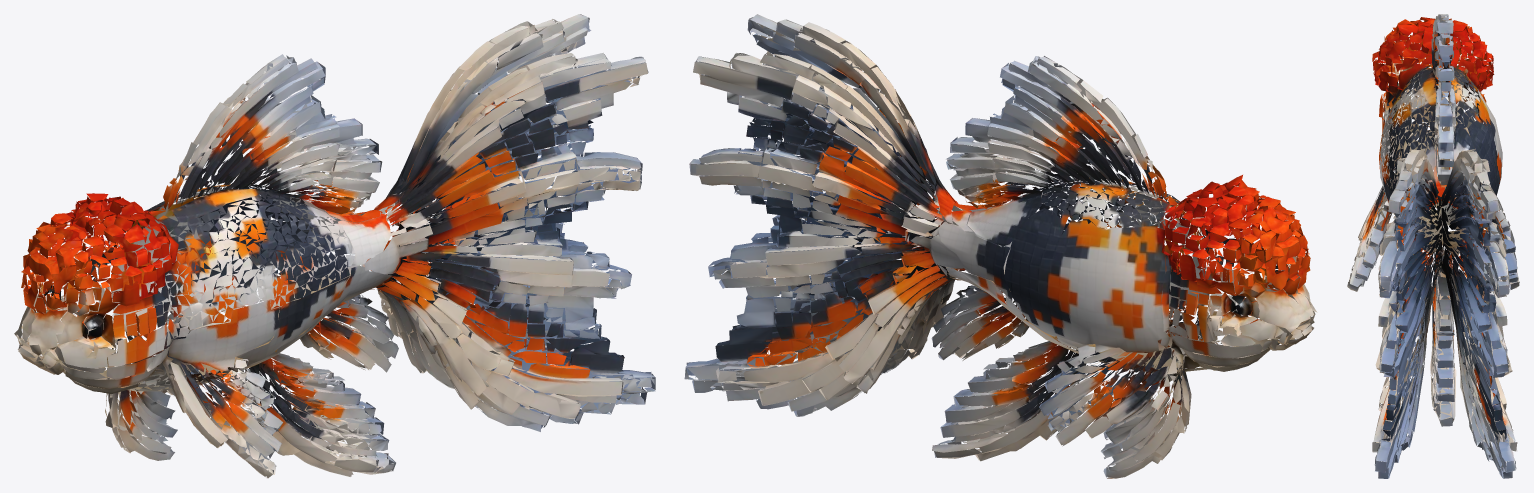
Rendered from fish_a-opt.glb.
3 renders of one model, left to right at view 1: azimuth 30°, elevation 25°; view 2: azimuth 150°, elevation 25°; view 3: azimuth 270°, elevation 25°, orthographic. The views are drawn at different scales.
Visible parts, largest first — view 1: node_0; view 2: node_0; view 3: node_0.
Boxes of the visible parts, x1,y1,x2,y2 form: node_0: [14, 14, 655, 478]; node_0: [684, 14, 1317, 478]; node_0: [1347, 14, 1519, 478].
Bounding box in the file's own units: 1.04 × 0.7223 × 0.3088.
1 material, 1 textured.
